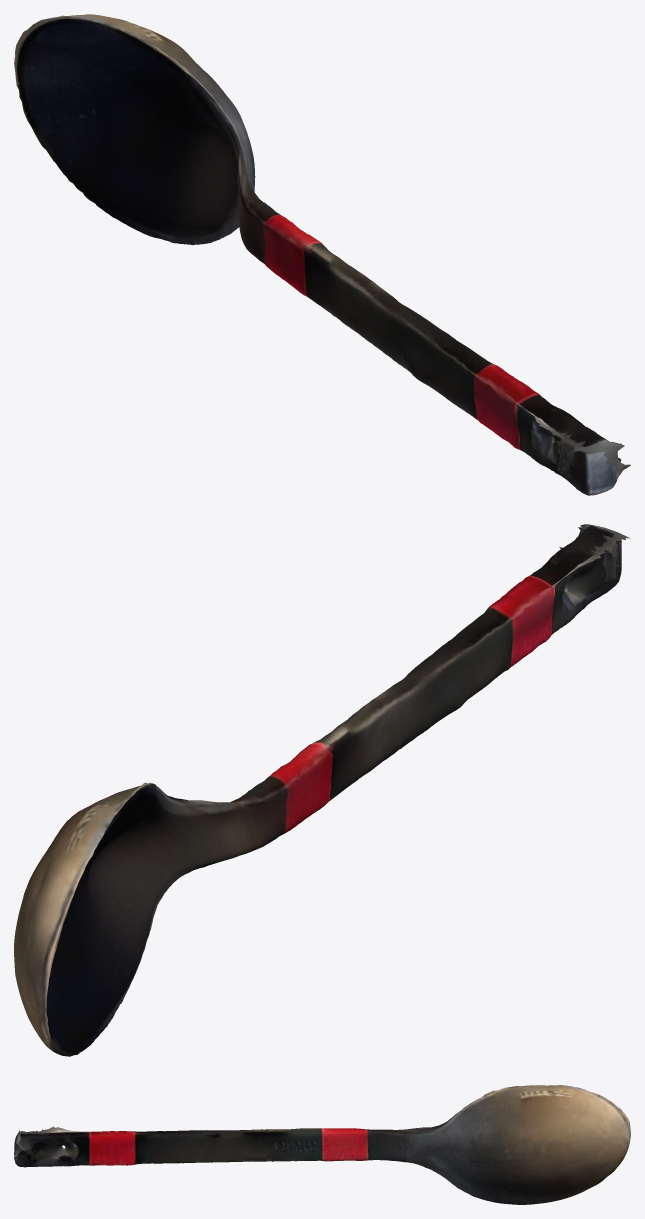
3 views of the same model, one above another, from view 1: azimuth 30°, elevation 25°; view 2: azimuth 150°, elevation 25°; view 3: azimuth 270°, elevation 25° (orthographic). The views are drawn at different scales.
Parts seen in each view (by area): view 1: mmGroup0; view 2: mmGroup0; view 3: mmGroup0.
Part boxes in pixels (bbox=[...]): mmGroup0: bbox=[14, 14, 630, 495]; mmGroup0: bbox=[14, 524, 629, 1056]; mmGroup0: bbox=[14, 1085, 630, 1204].
Bounding box in the file's own units: 0.0368 × 0.0686 × 0.3345.
Materials: 2 (2 with a texture image).
